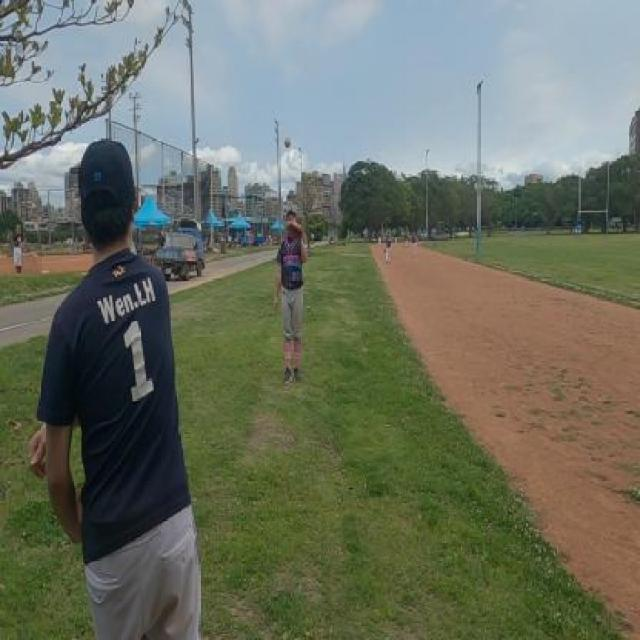baseball: (284, 136, 291, 150)
